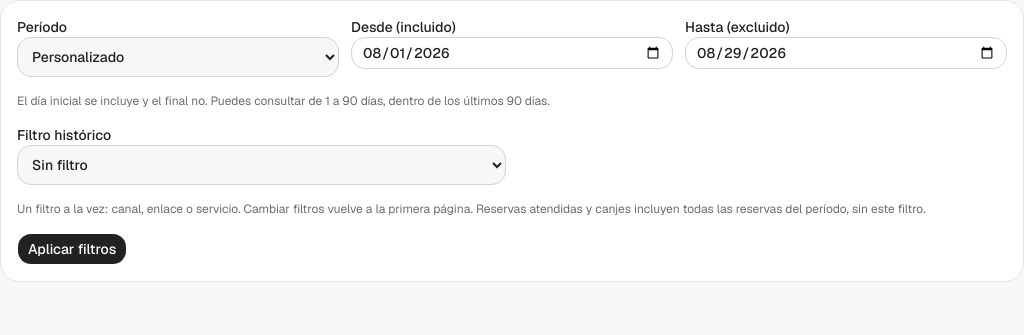
it: actual analytics management controls › prevents an inverted custom period and explains it before navigation
Type "2026-08-29" into the date field named "from" at (512, 53), box x1=351 y1=37 x2=673 y2=69
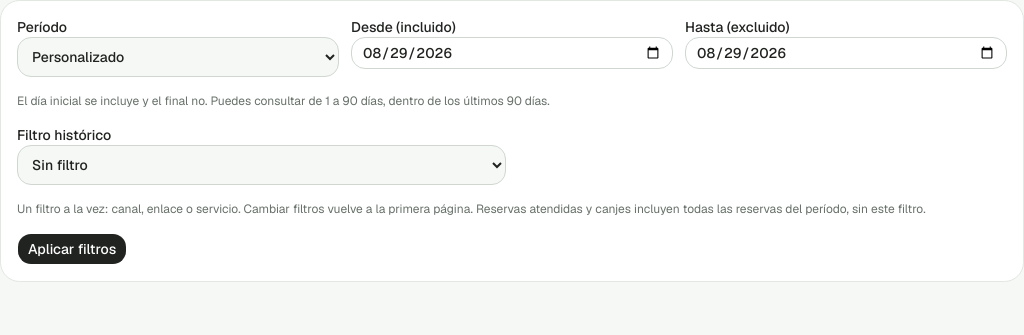
Type "2026-08-01" into the date field named "to" at (846, 53), box x1=685 y1=37 x2=1007 y2=69
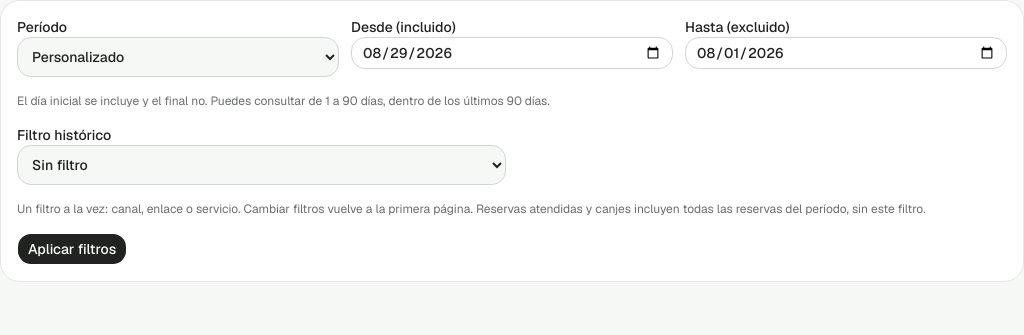
Submit the form
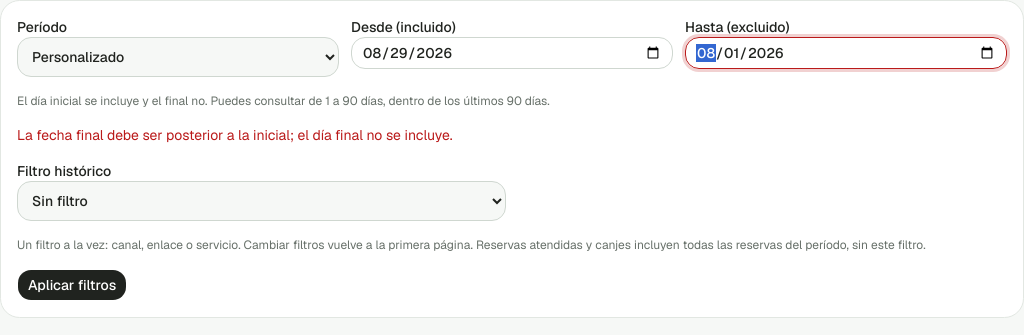
Expected: the message "La fecha final debe ser posterior a la inicial; el día final no se incluye." is shown, x1=17 y1=126 x2=453 y2=144
Type "2026-08-28" into the date field named "from" at (512, 53), box x1=351 y1=37 x2=673 y2=69
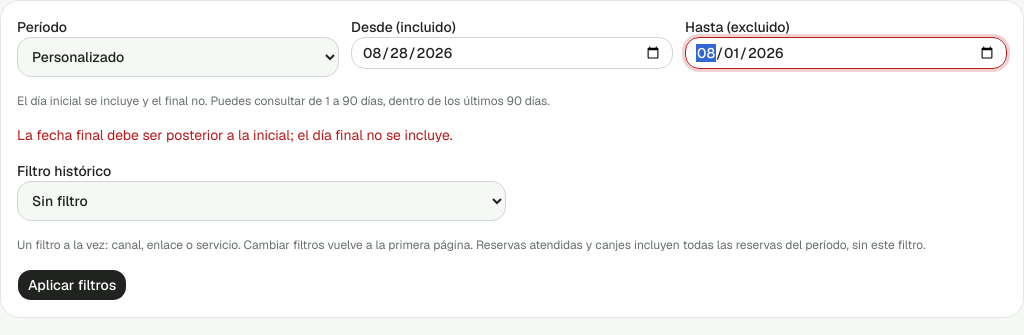
Type "2026-08-29" into the date field named "to" at (846, 53), box x1=685 y1=37 x2=1007 y2=69
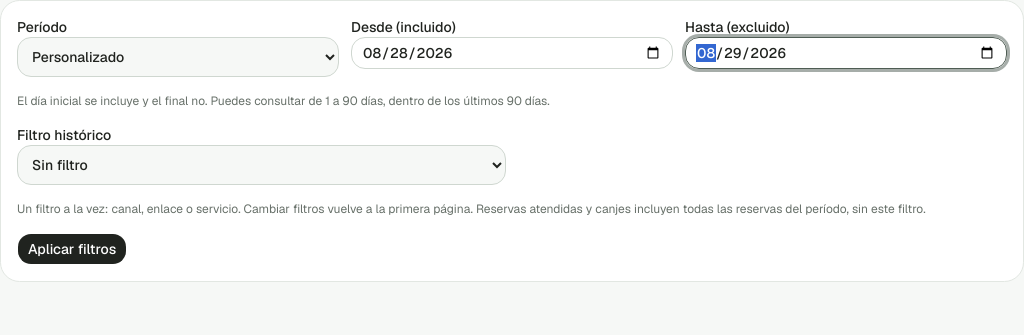
Expected: the message "La fecha final debe ser posterior a la inicial; el día final no se incluye." is gone
